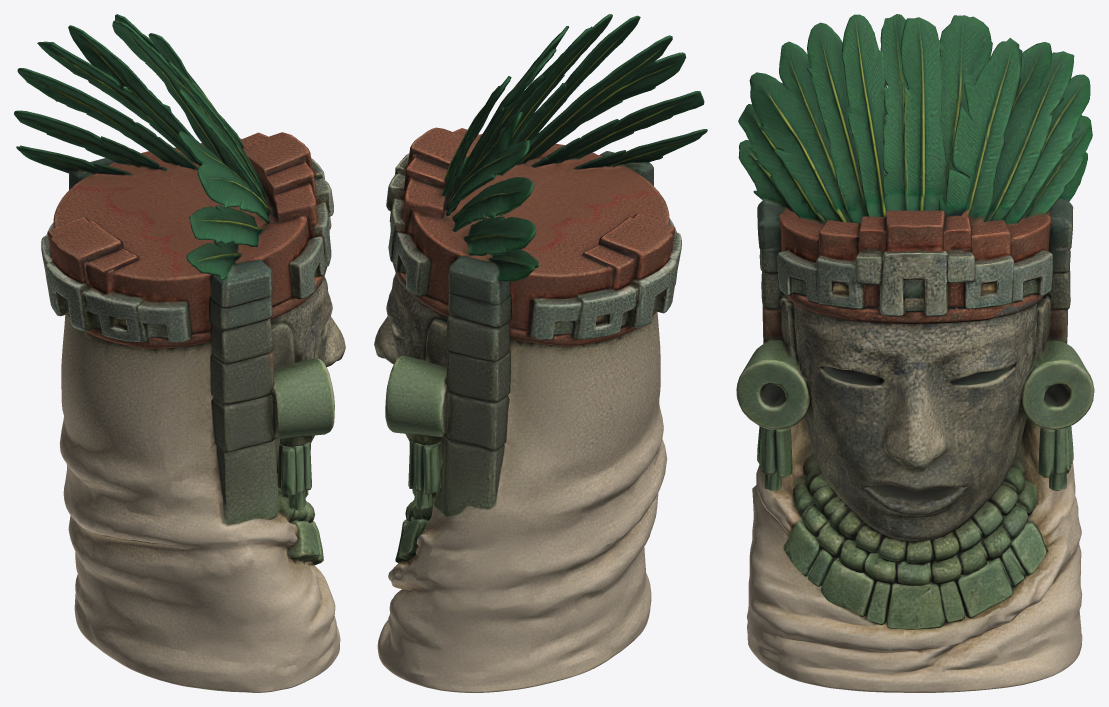
File: hyp-2.glb
The picture shows the model from 3 angles, left to right: view 1: azimuth 30°, elevation 25°; view 2: azimuth 150°, elevation 25°; view 3: azimuth 270°, elevation 25°; orthographic projection.
Visible parts, largest first — view 1: tripo_node_af6bb0b7-59ba-4b34-925c-3f01a064f1dc; view 2: tripo_node_af6bb0b7-59ba-4b34-925c-3f01a064f1dc; view 3: tripo_node_af6bb0b7-59ba-4b34-925c-3f01a064f1dc.
Boxes of the visible parts, x1,y1,x2,y2 form: tripo_node_af6bb0b7-59ba-4b34-925c-3f01a064f1dc: (14,14,345,692); tripo_node_af6bb0b7-59ba-4b34-925c-3f01a064f1dc: (374,14,707,692); tripo_node_af6bb0b7-59ba-4b34-925c-3f01a064f1dc: (736,14,1094,692).
Bounding box in the file's own units: 0.494 × 1 × 0.5374.
Materials: 1 (1 with a texture image).
